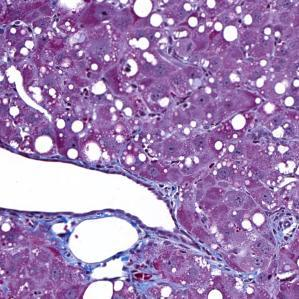fibrosis: (23, 213, 71, 245)
